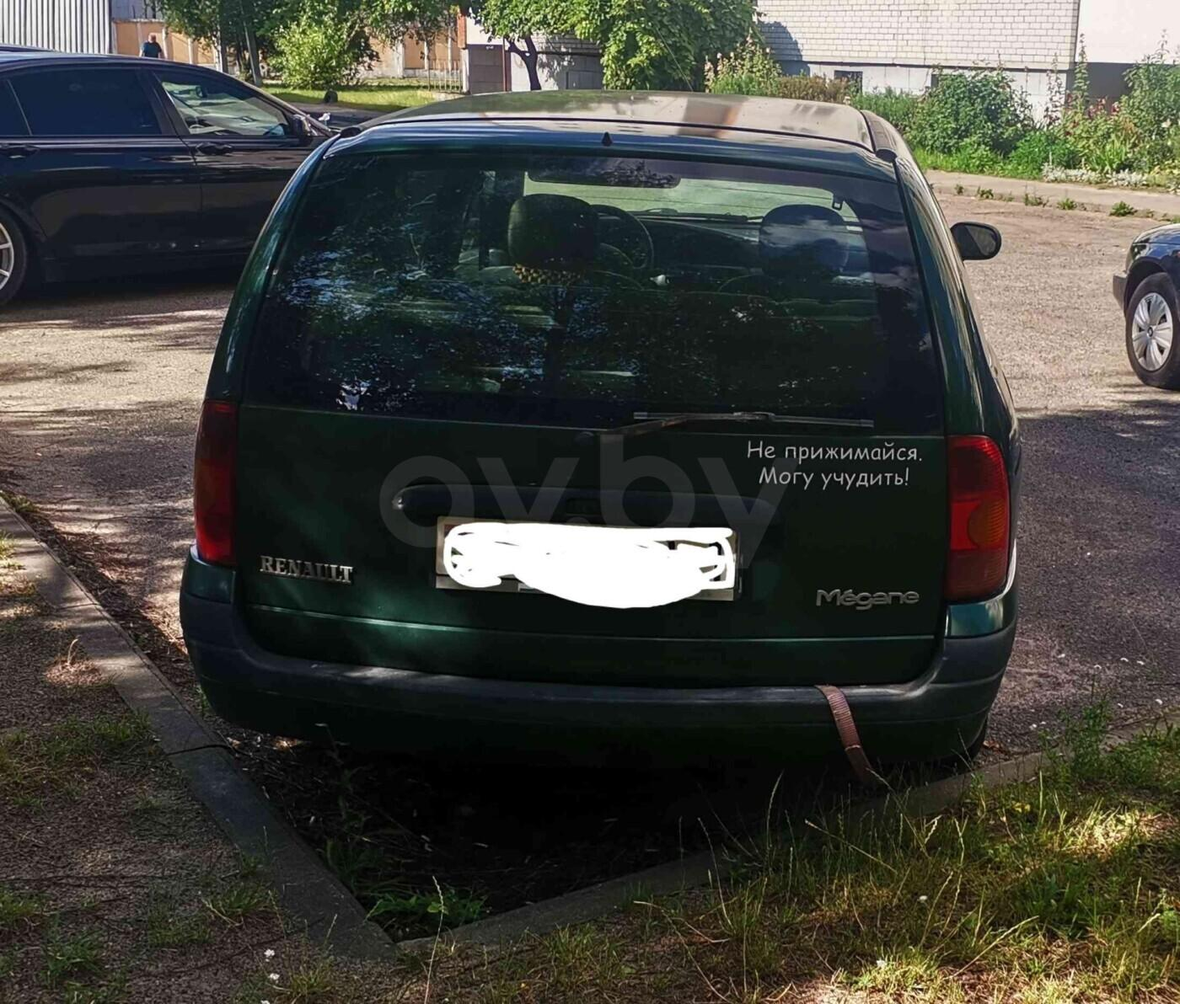Megane_1999-2003: (171, 84, 1037, 788)
